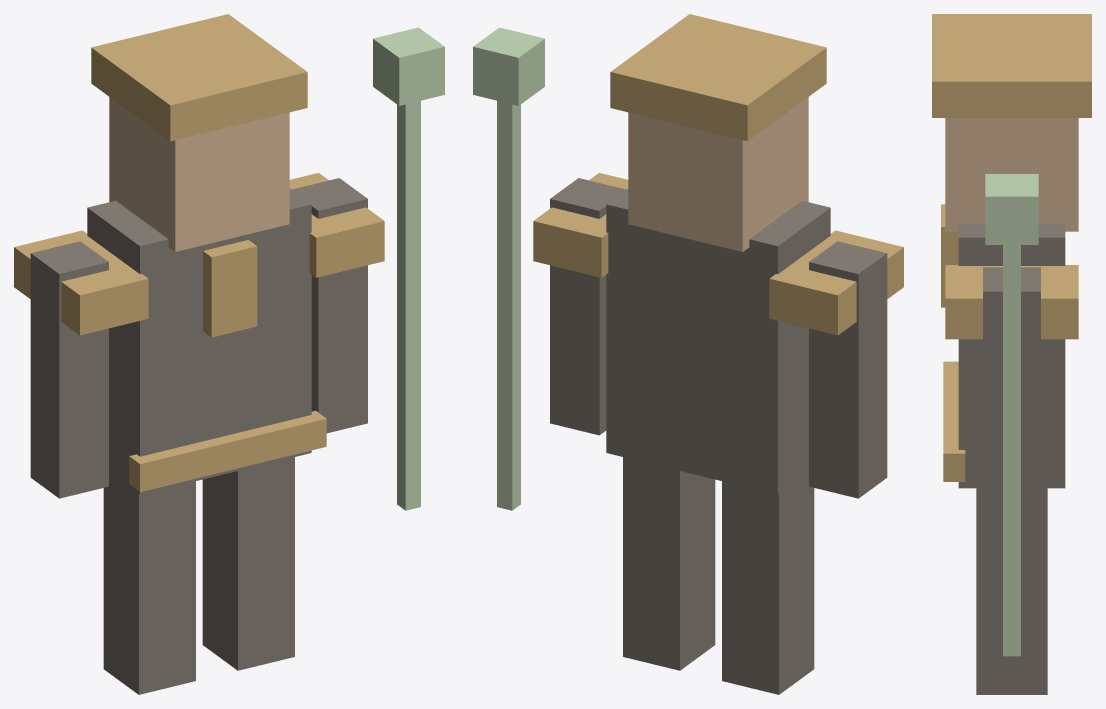
File: 15_brant_brightlock_custodian_near_tactical.glb
3 renders of one model, left to right at view 1: azimuth 30°, elevation 25°; view 2: azimuth 150°, elevation 25°; view 3: azimuth 270°, elevation 25°, orthographic.
Visible parts, largest first — view 1: Brant Brightlock, Custodian near Tactical; view 2: Brant Brightlock, Custodian near Tactical; view 3: Brant Brightlock, Custodian near Tactical.
Part boxes in pixels (<box>): Brant Brightlock, Custodian near Tactical: <box>14,14,444,694</box>; Brant Brightlock, Custodian near Tactical: <box>473,14,903,694</box>; Brant Brightlock, Custodian near Tactical: <box>932,14,1091,694</box>.
Bounding box in the file's own units: 0.9776 × 1.46 × 0.3467.
